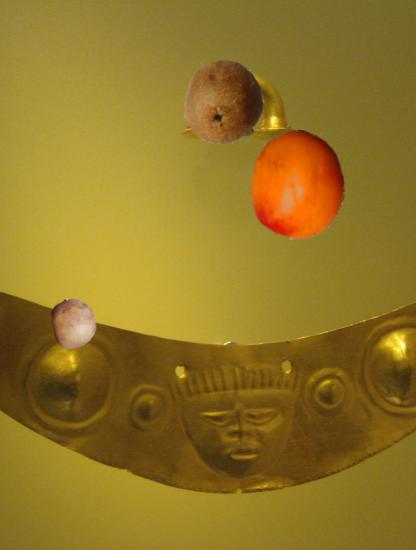Apricot: (243, 130, 354, 241)
Kiwi: (180, 60, 266, 146)
Peach: (48, 298, 99, 349)
